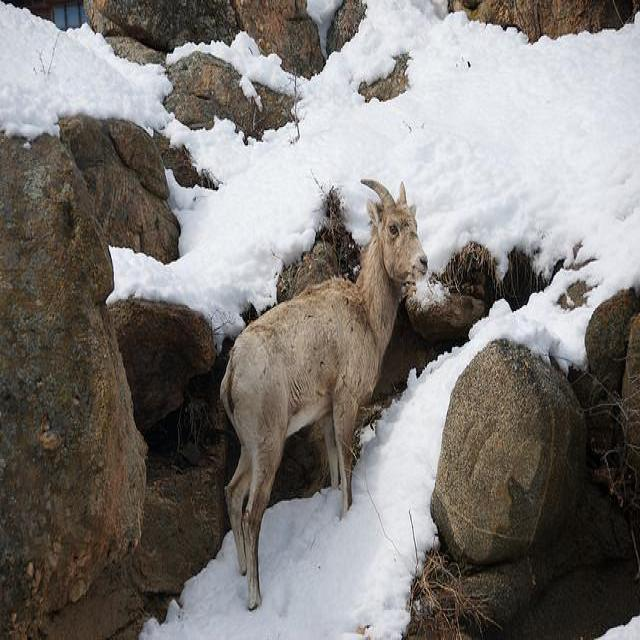Sheep: (217, 178, 428, 606)
